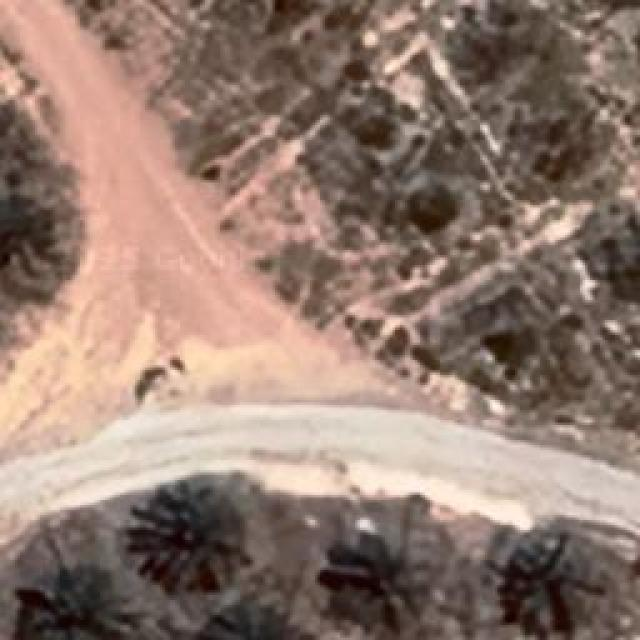PalmTree: (118, 35, 378, 579), (75, 105, 256, 623), (125, 480, 247, 590), (500, 540, 592, 632), (27, 570, 145, 638), (0, 188, 58, 290), (604, 208, 640, 306)
